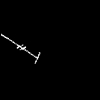treble_crochet: (1, 34, 38, 62)
